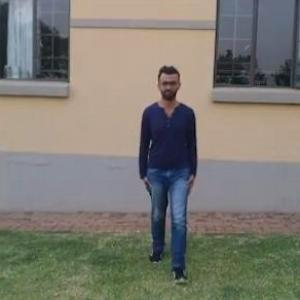follow: (134, 47, 208, 285)
